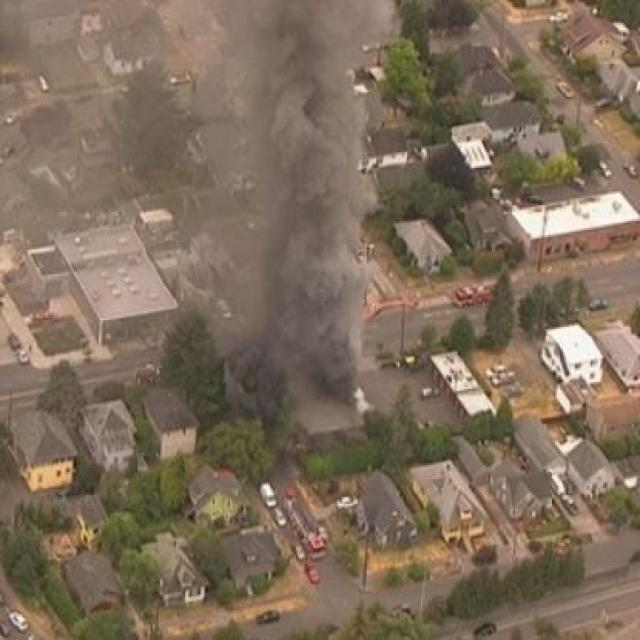Smoke: (211, 0, 372, 409)
